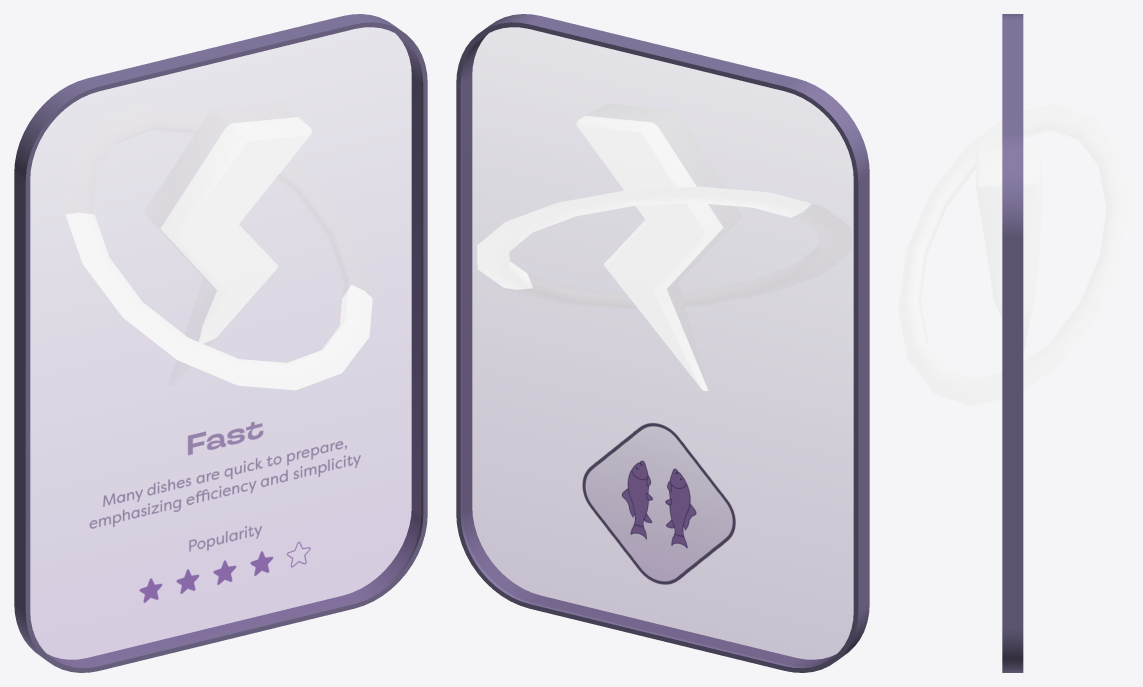
Rendered from fast.glb.
3 views of the same model, side by side, from view 1: azimuth 30°, elevation 25°; view 2: azimuth 150°, elevation 25°; view 3: azimuth 270°, elevation 25° (orthographic). The views are drawn at different scales.
Visible parts, largest first — view 1: Bhai_Card.tex.024, group329809162.007, Bhai_Card.out.024; view 2: Bhai_Card.tex.024, group329809162.007, Bhai_Card.out.024; view 3: group329809162.007, Bhai_Card.out.024.
Boxes of the visible parts, left/top/right/bottom form: Bhai_Card.tex.024: left=30, top=157, right=420, bottom=666; group329809162.007: left=63, top=103, right=373, bottom=390; Bhai_Card.out.024: left=14, top=14, right=427, bottom=672; Bhai_Card.tex.024: left=463, top=157, right=853, bottom=666; group329809162.007: left=477, top=103, right=852, bottom=391; Bhai_Card.out.024: left=456, top=14, right=869, bottom=672; group329809162.007: left=898, top=104, right=1128, bottom=406; Bhai_Card.out.024: left=1002, top=14, right=1023, bottom=672.
Bounding box in the file's own units: 1.81 × 2.51 × 0.9864.
4 materials, 2 textured.
